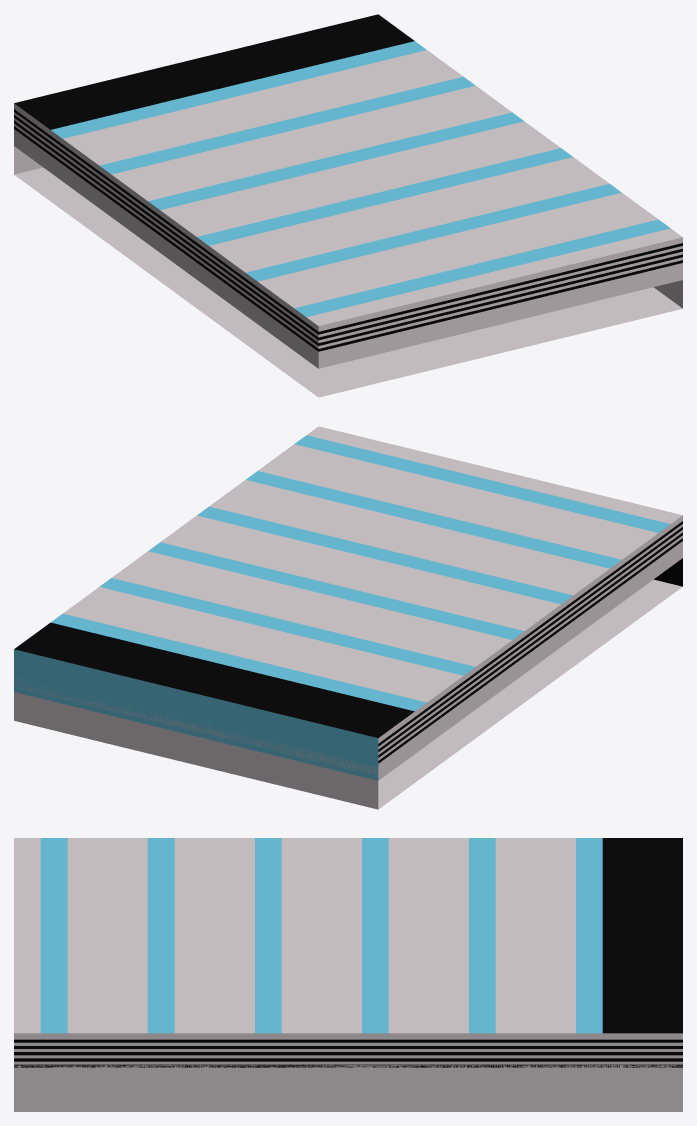
Rendered from notepad.fbx.
The picture shows the model from 3 angles, top to bottom: view 1: azimuth 30°, elevation 25°; view 2: azimuth 150°, elevation 25°; view 3: azimuth 270°, elevation 25°; orthographic projection. The views are drawn at different scales.
Parts seen in each view (by area): view 1: Notebook_paper; view 2: Notebook_paper; view 3: Notebook_paper.
Part boxes in pixels (x1=…): Notebook_paper: x1=14, y1=14, x2=682, y2=397; Notebook_paper: x1=14, y1=426, x2=682, y2=809; Notebook_paper: x1=14, y1=838, x2=682, y2=1111.
Size of the model in its own units: 51.9 by 9.73 by 75.15.
